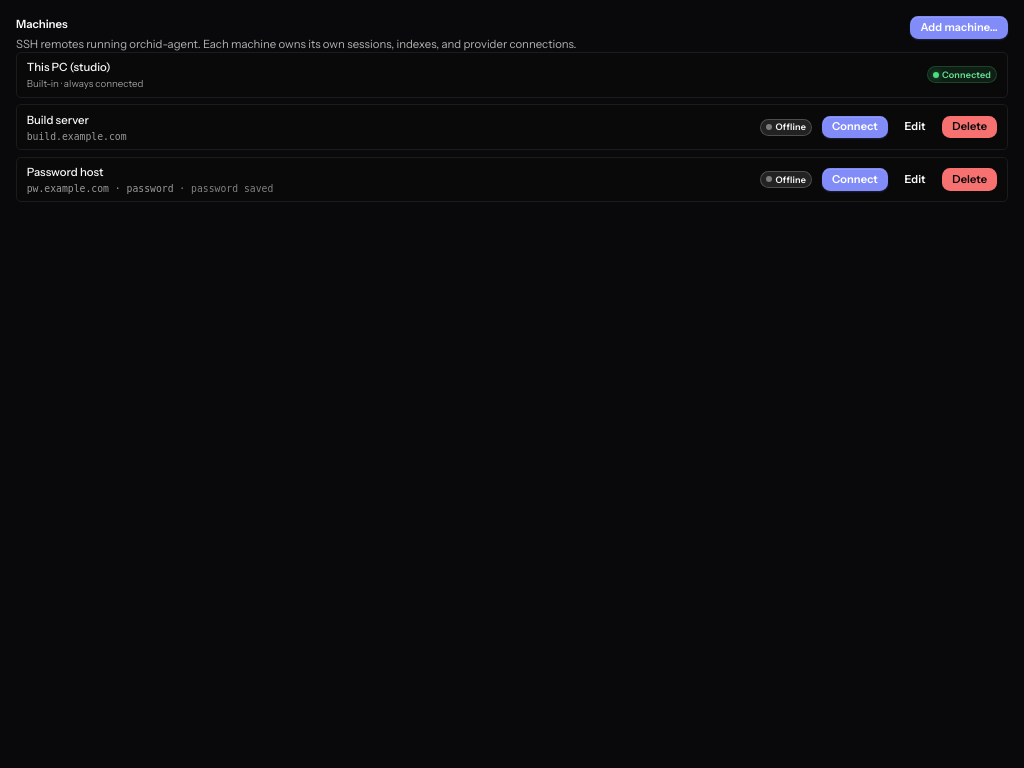
Scenario: MachinesTab › opens the add-machine wizard from the header action
Check: the text "Add remote machine" is not shown
Click the button "Add machine…".
click(959, 27)  # box [910,16,1008,39]
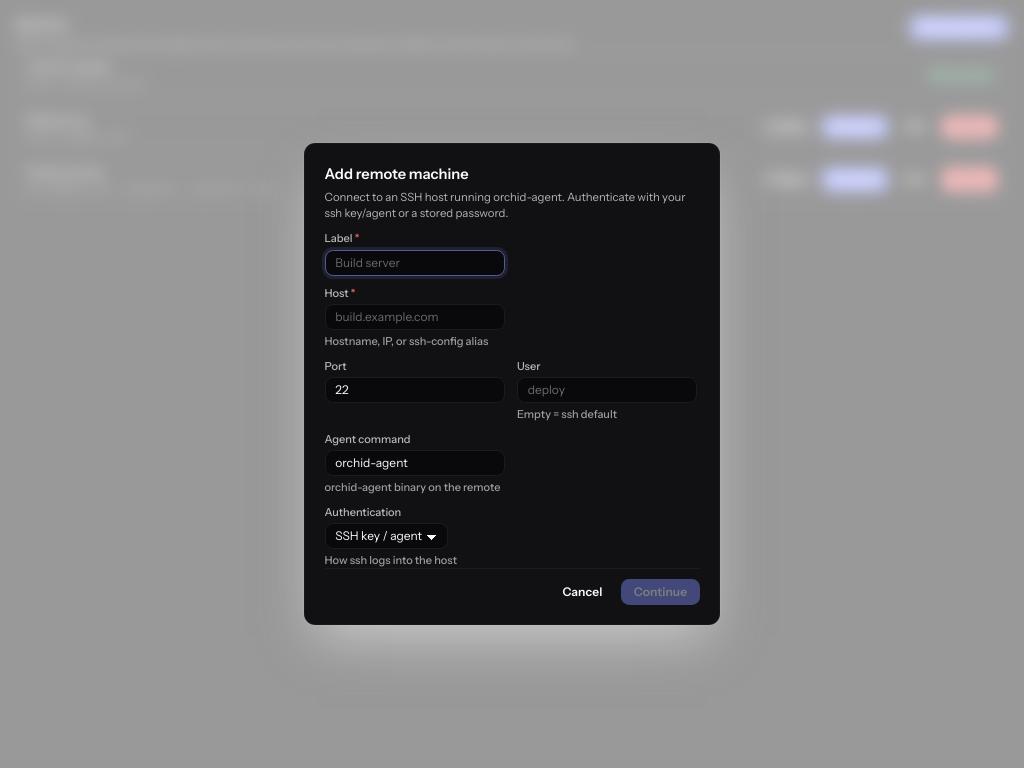
Check: the heading "Add remote machine" is shown, box [324,165,468,183]
